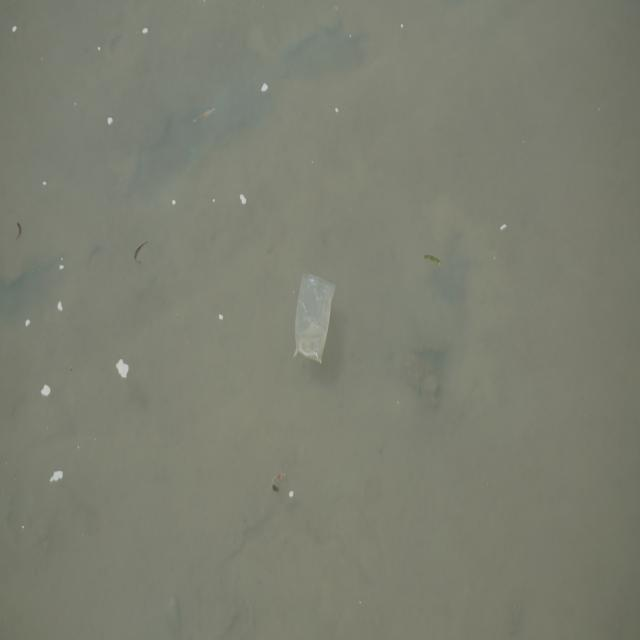Kantong Plastik: (290, 272, 338, 373)
